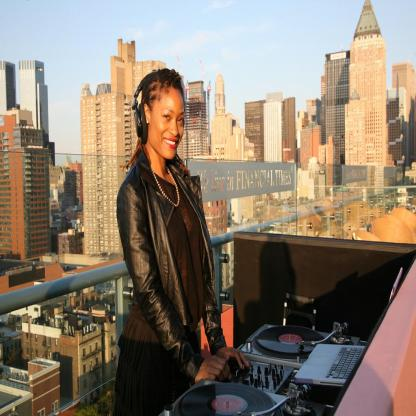board: (296, 265, 402, 389)
